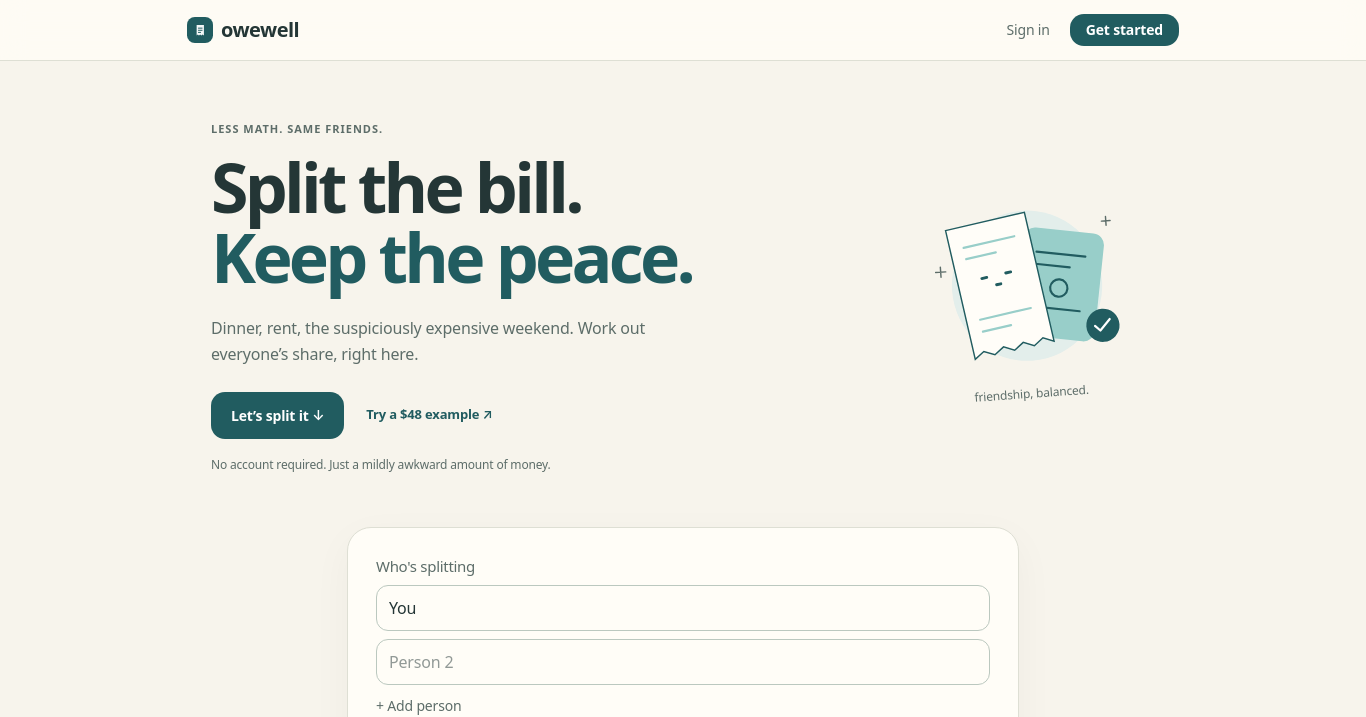
Test case: adding a tip › refuses a percentage outside 1 to 100
This screenshot has width=1366, height=717.
Replace the text in the field named "Person 1 name" with "Alice": (683, 608) [376, 585, 990, 631]
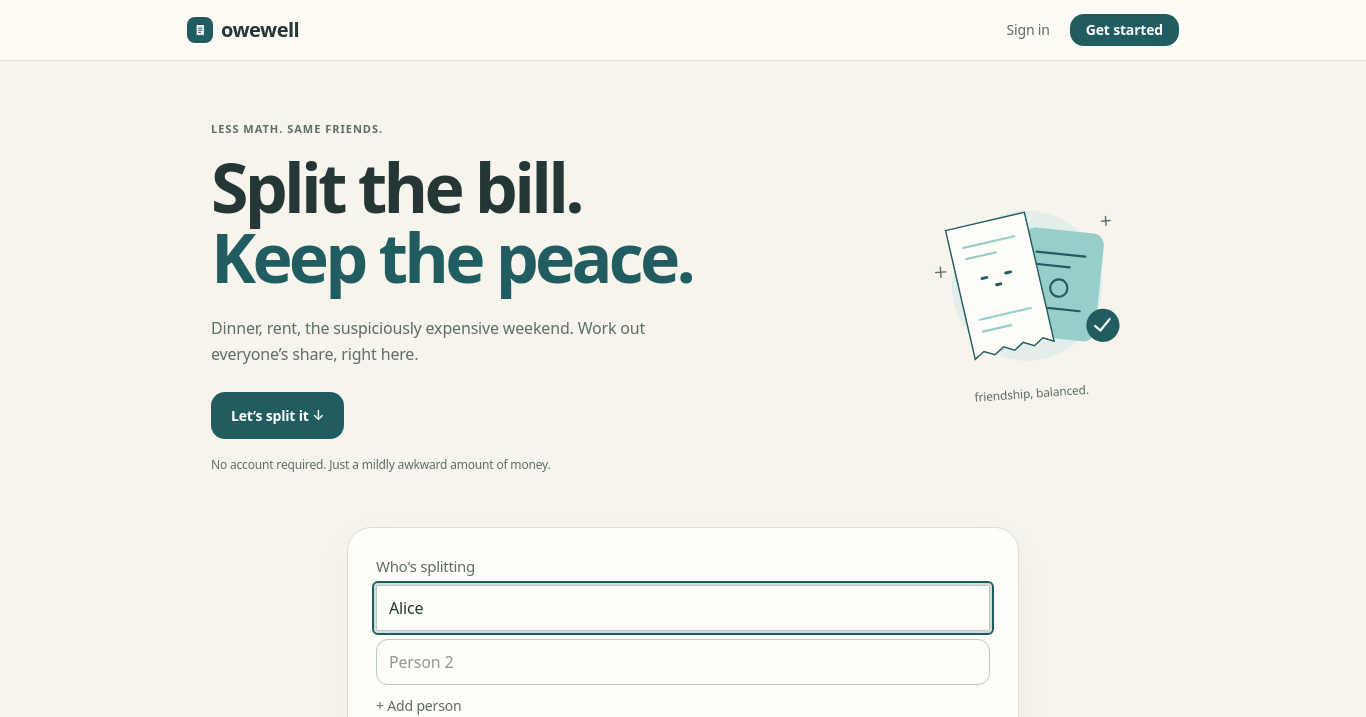
In the field with placeholder "Person 2": (683, 662) [376, 639, 990, 685], type "Bob"
(page scrolled)
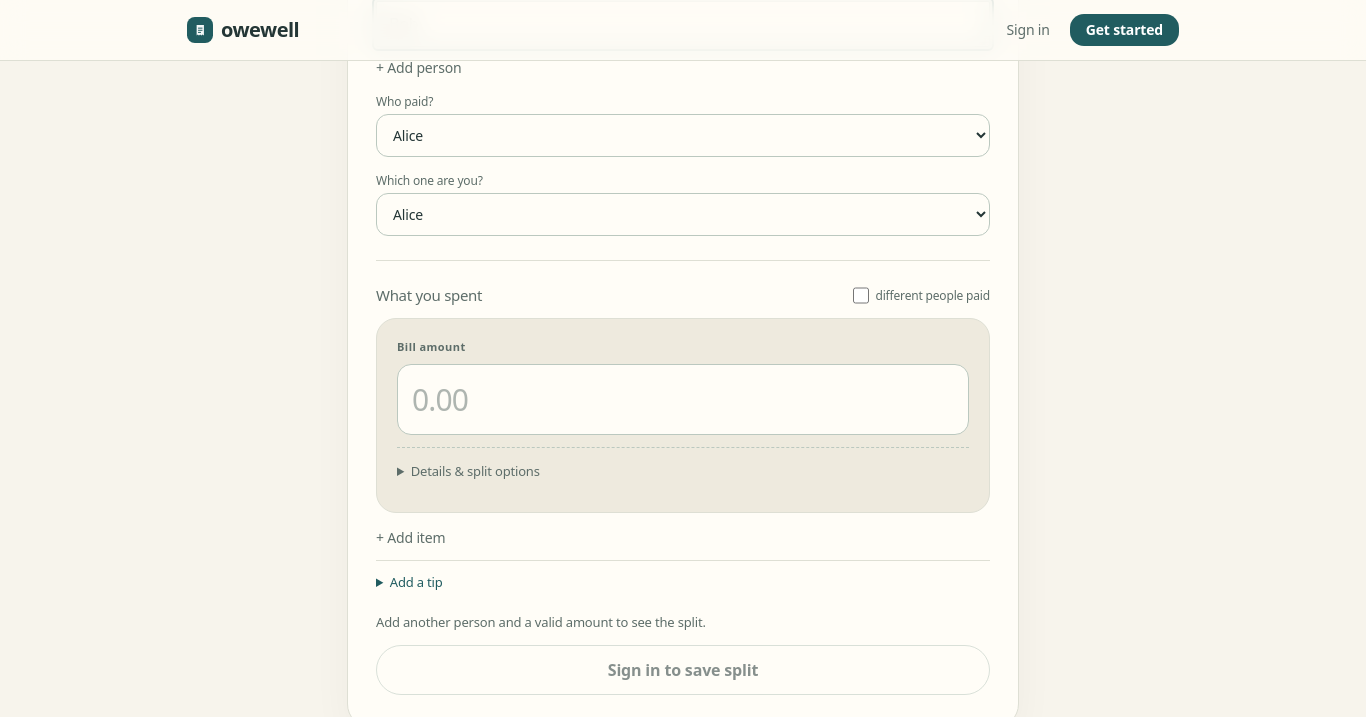
Click the heading "Details & split options": (475, 471) [411, 462, 540, 480]
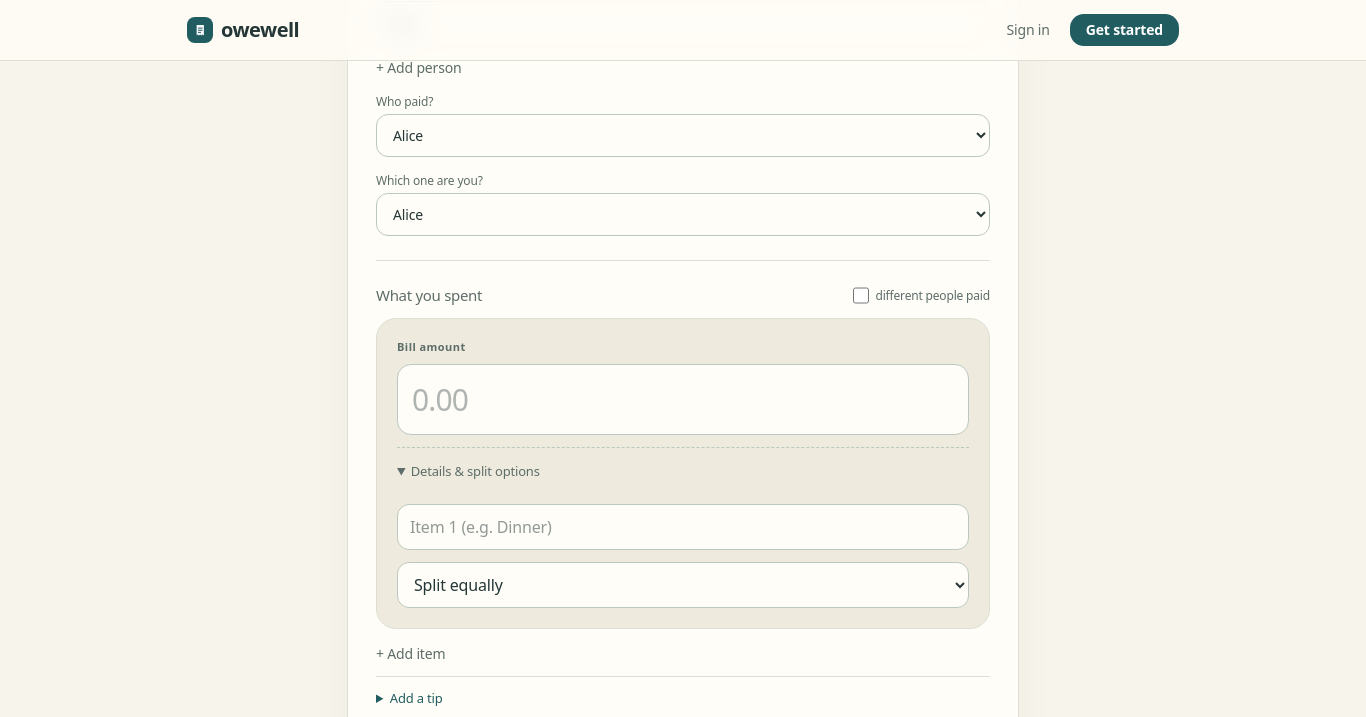
In the field named "Item 1 description": (683, 527) [397, 504, 969, 550], type "Dinner"
In the field named "Item 1 amount": (683, 399) [397, 364, 969, 435], type "100.00"
(page scrolled)
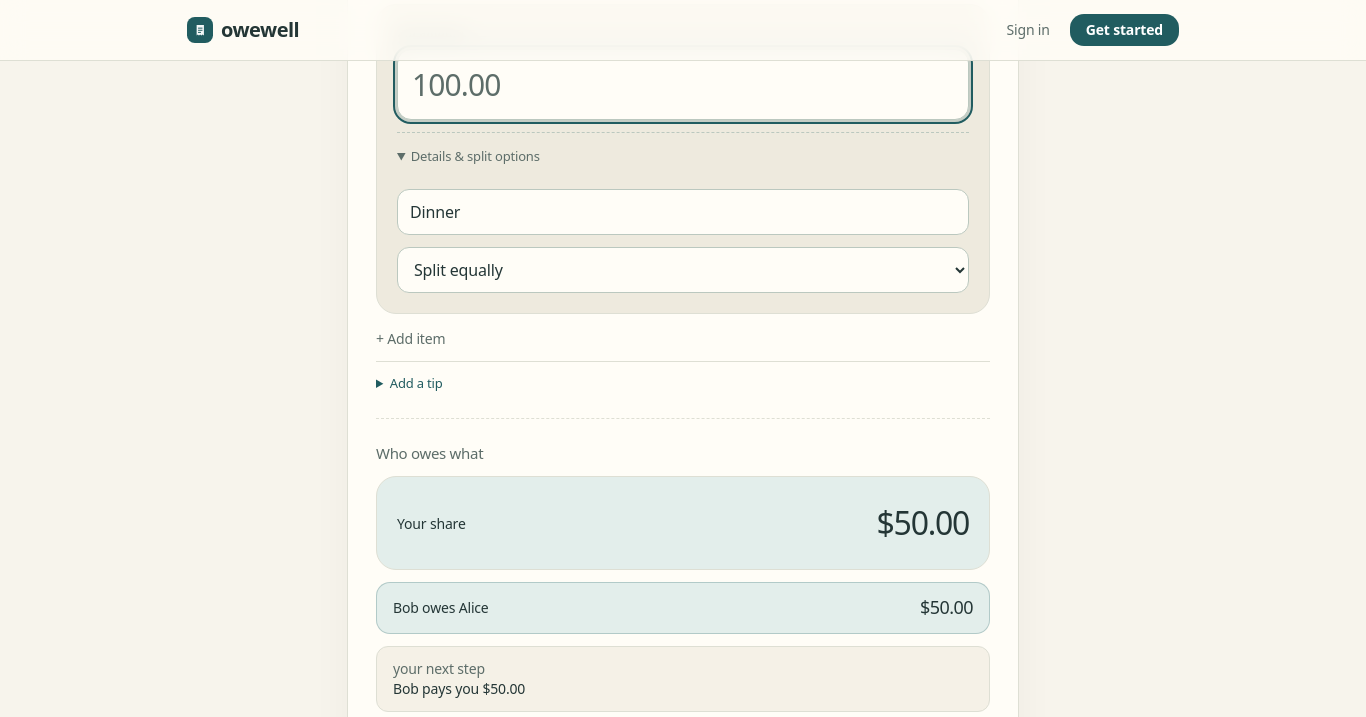
Click the heading "Add a tip": (416, 383) [390, 374, 443, 392]
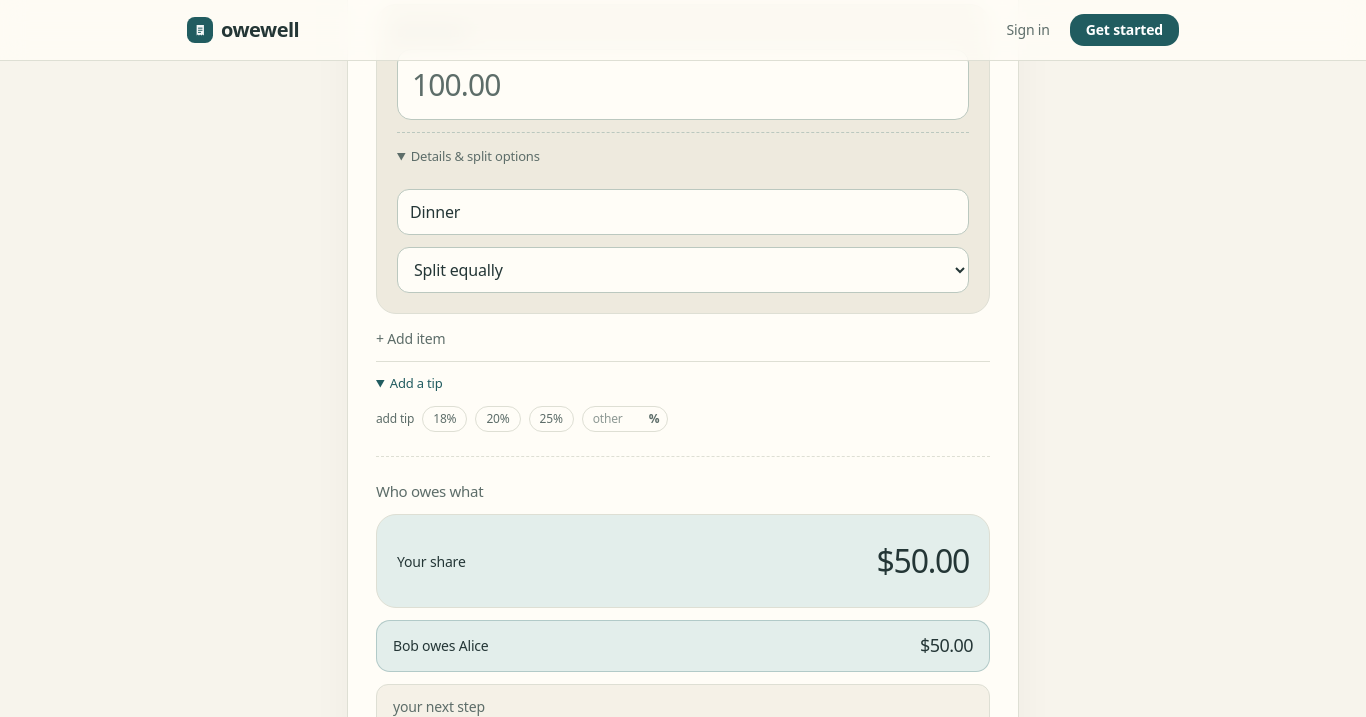
In the field with placeholder "other": (617, 419) [593, 407, 641, 431], type "150"
Click the button named "Apply custom tip": (654, 419) [641, 407, 667, 431]
(page scrolled)
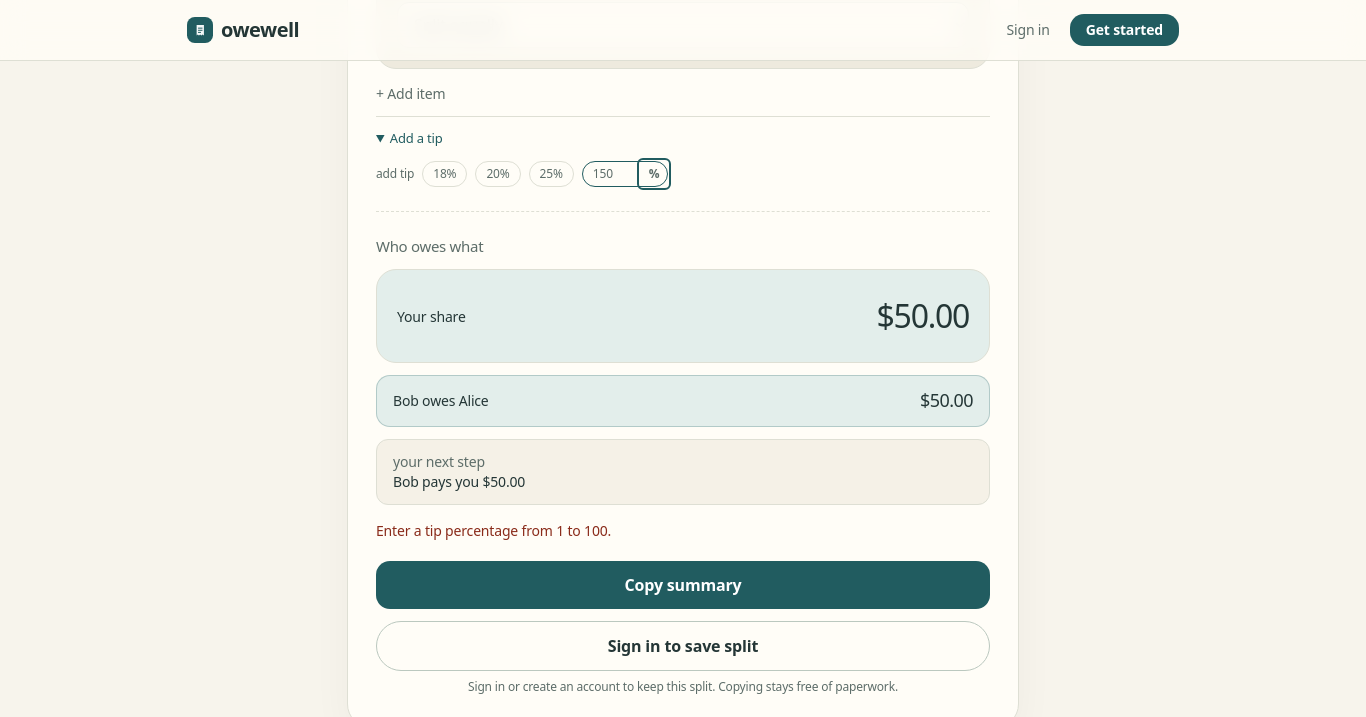
Expected: the message shows "from 1 to 100", [376, 521, 611, 540]
